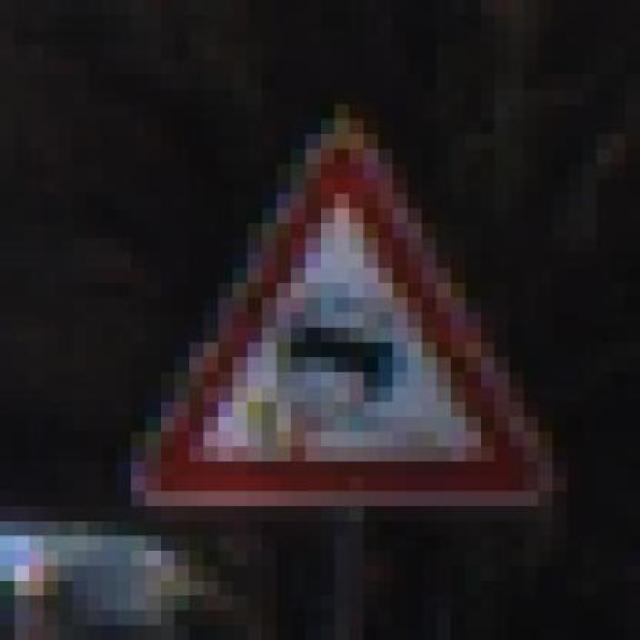Slippery Road Ahead: (116, 119, 567, 536)
